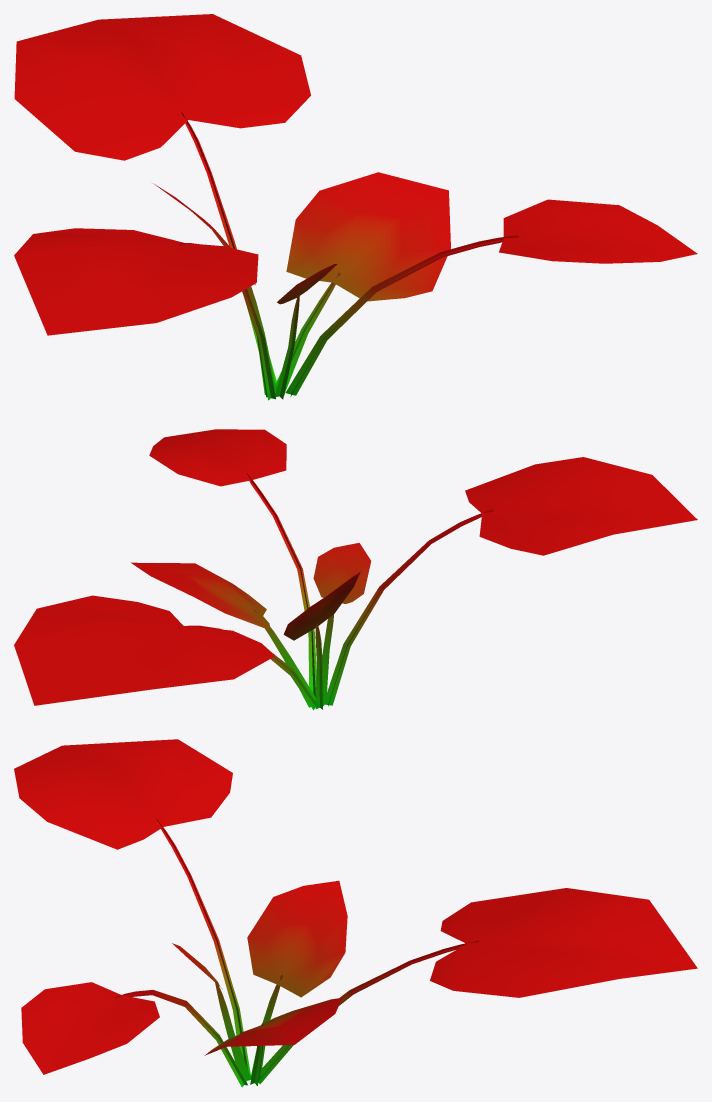
File: Coltsfoot_LOD3_Var2_xbtkdfvqx.fbx
The picture shows the model from 3 angles, top to bottom: view 1: azimuth 30°, elevation 25°; view 2: azimuth 150°, elevation 25°; view 3: azimuth 270°, elevation 25°; orthographic projection. The views are drawn at different scales.
Parts seen in each view (by area): view 1: _0u7w_Var2_LOD3; view 2: _0u7w_Var2_LOD3; view 3: _0u7w_Var2_LOD3.
Boxes of the visible parts, left/top/right/bottom form: _0u7w_Var2_LOD3: left=14, top=14, right=697, bottom=400; _0u7w_Var2_LOD3: left=14, top=429, right=697, bottom=710; _0u7w_Var2_LOD3: left=14, top=739, right=697, bottom=1087.
Size of the model in its own units: 24.68 by 9.16 by 26.28.
